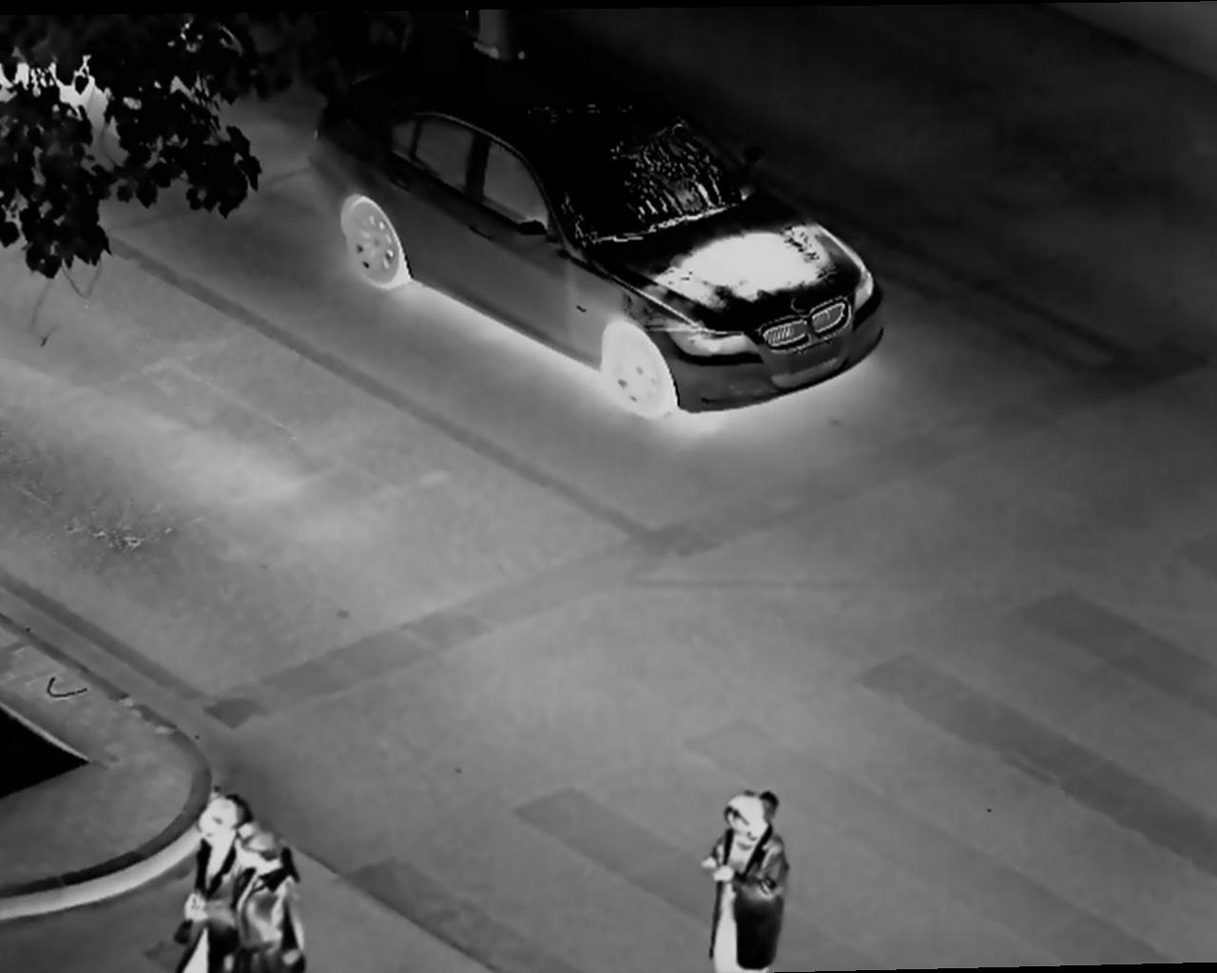person: (683, 792, 801, 973), (236, 815, 321, 973), (180, 792, 250, 973)
